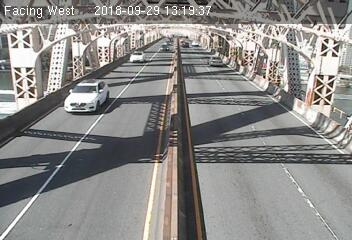car: (60, 78, 112, 115), (126, 50, 146, 65), (206, 52, 224, 68), (158, 42, 171, 52)
